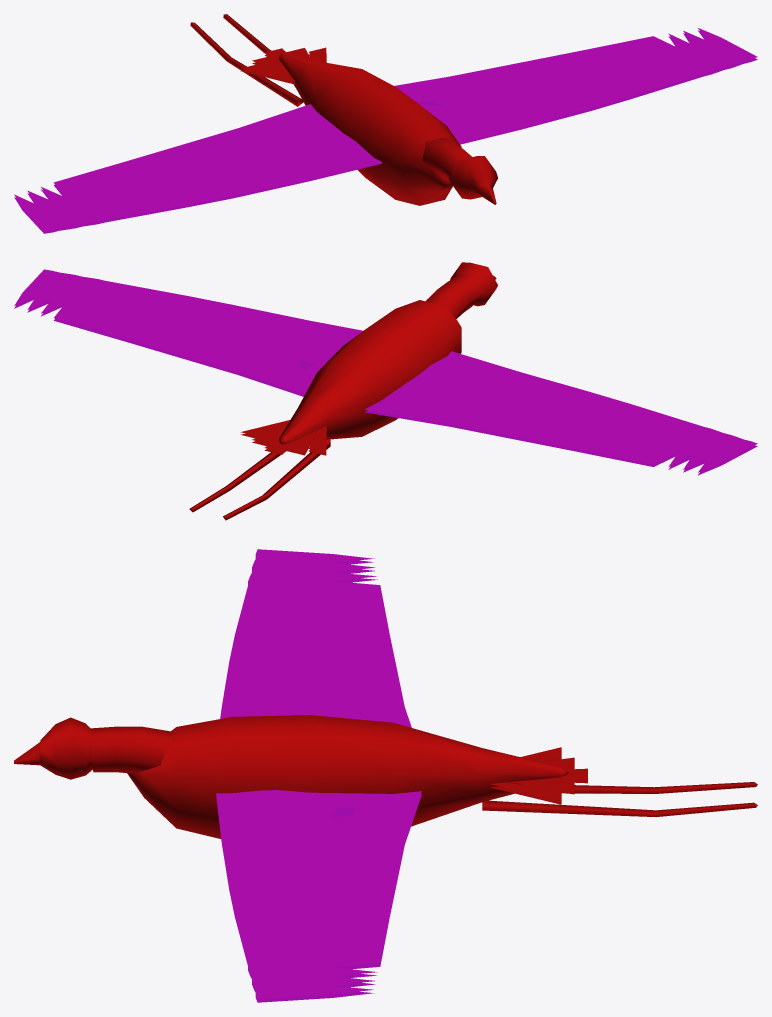
The model's file is crane.glb.
3 views of the same model, one above another, from view 1: azimuth 30°, elevation 25°; view 2: azimuth 150°, elevation 25°; view 3: azimuth 270°, elevation 25° (orthographic). The views are drawn at different scales.
Parts seen in each view (by area): view 1: bird; view 2: bird; view 3: bird.
Part boxes in pixels (x1,y1,x2,y2): bird: [14, 14, 757, 233]; bird: [14, 262, 757, 520]; bird: [14, 549, 757, 1002].
Size of the model in its own units: 2.2 by 0.2461 by 1.54.
